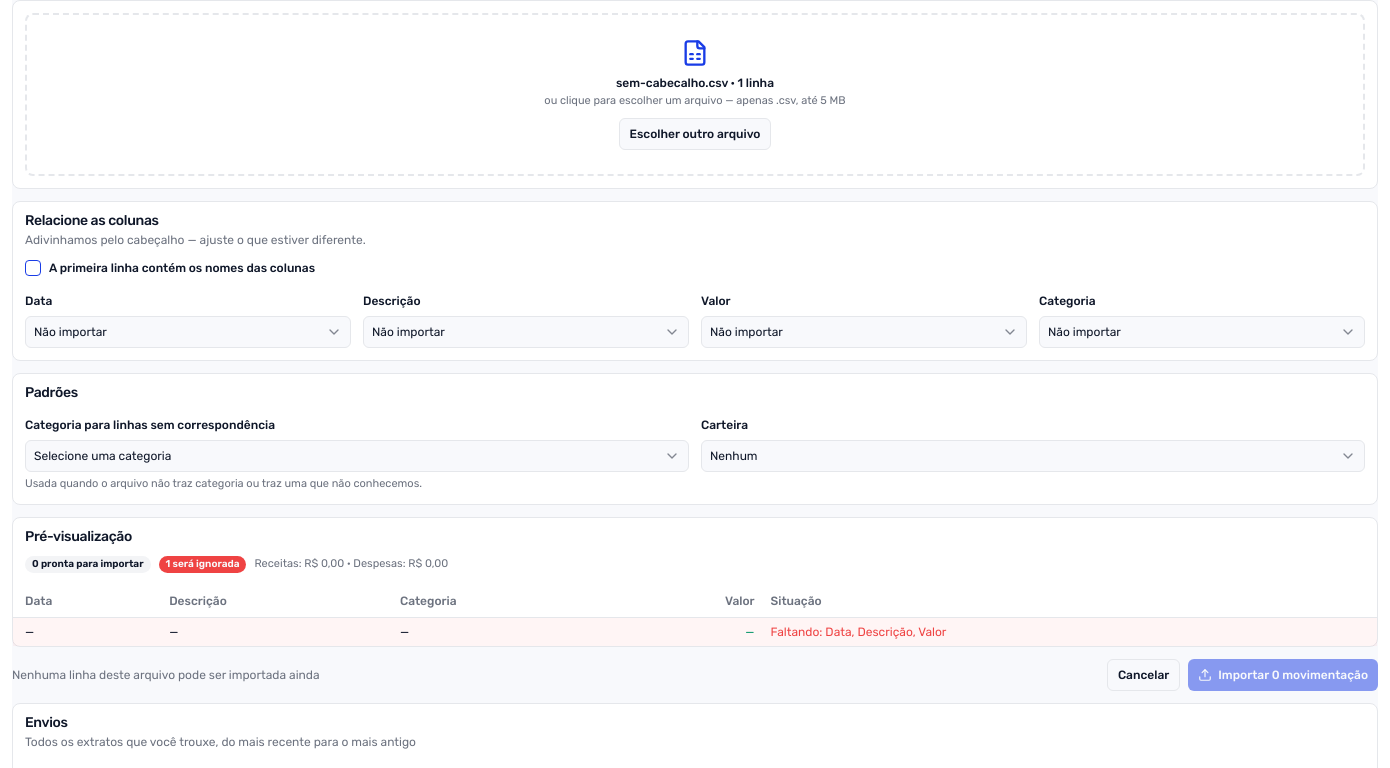
Test case: StatementImportSection › lets the columns be remapped by hand
This screenshot has width=1390, height=768.
Earlier steps of the test are not shown.
Expected: the text "Relacione as colunas" is shown, [25,212,159,228]
Expected: the text "0 pronta para importar" is shown, [25,556,150,573]
Click the dropdown named "Data" at (70, 332), box [25,316,351,348]
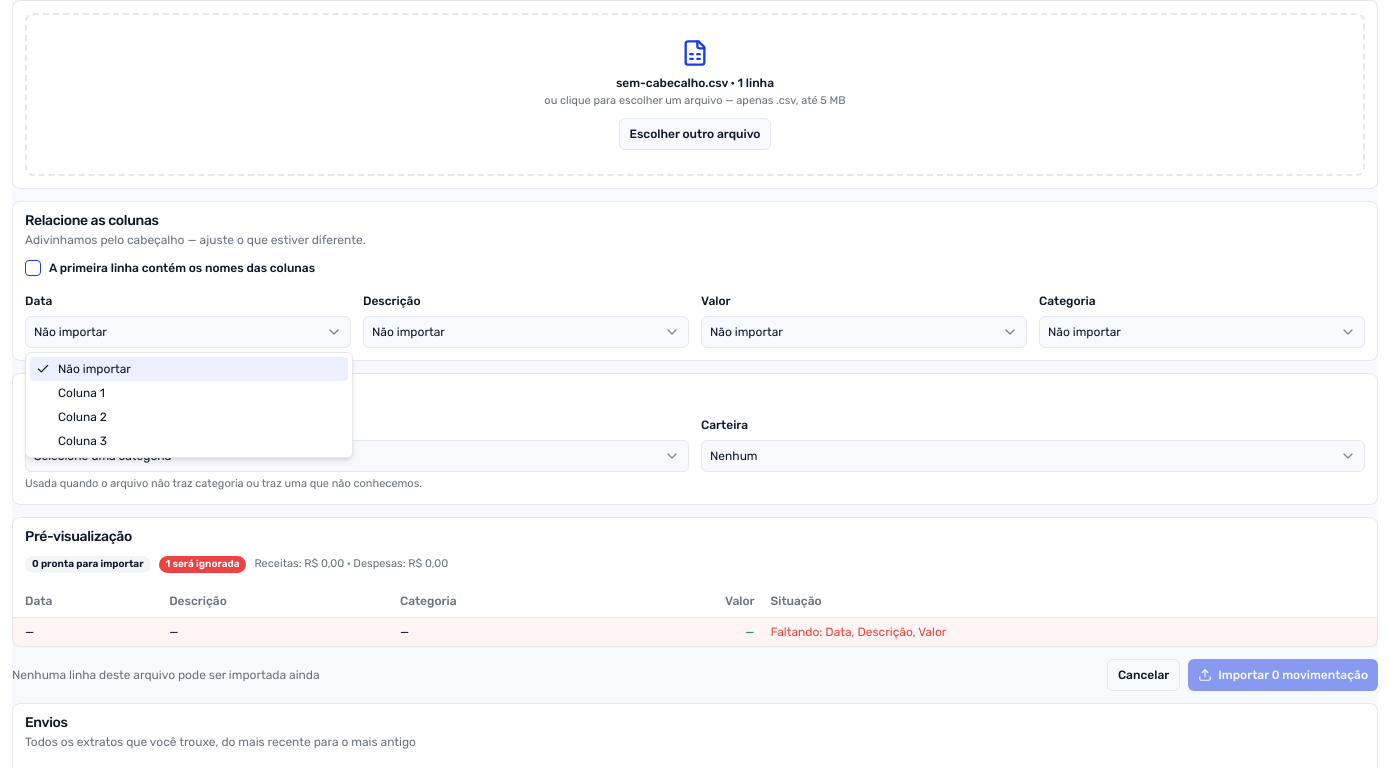
Click the option "Coluna 1" at (82, 393), box [58,386,105,400]
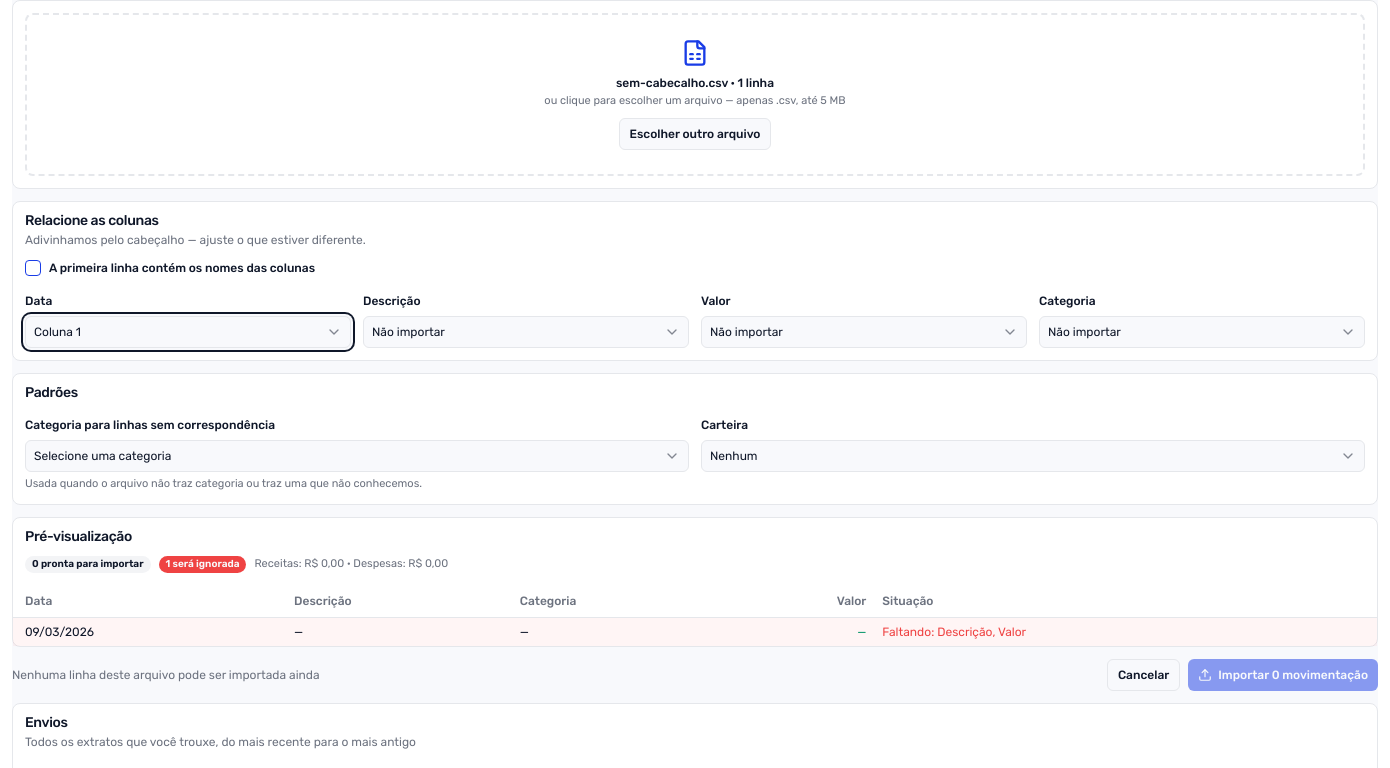
Click the dropdown named "Descrição" at (408, 332), box [363,316,689,348]
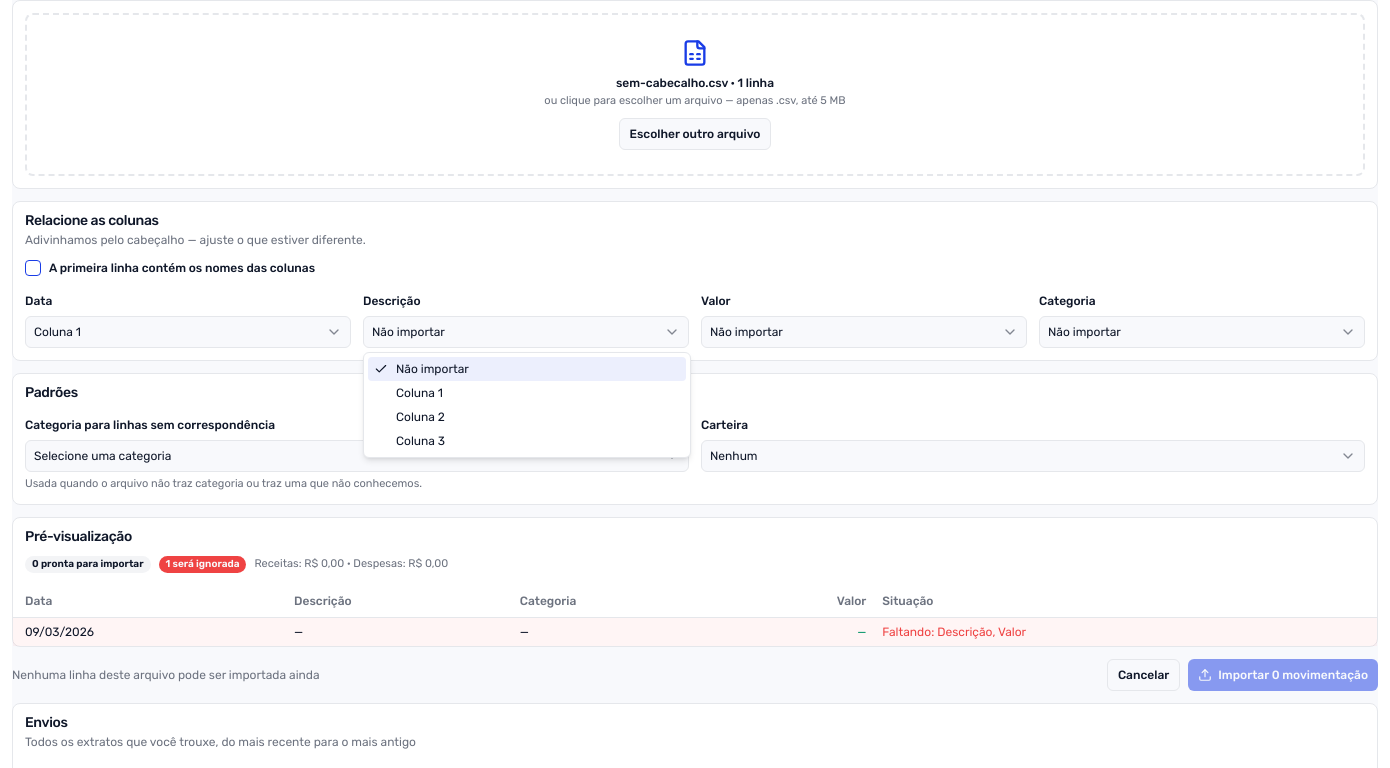
Click the option "Coluna 2" at (420, 417), box [396,410,445,424]
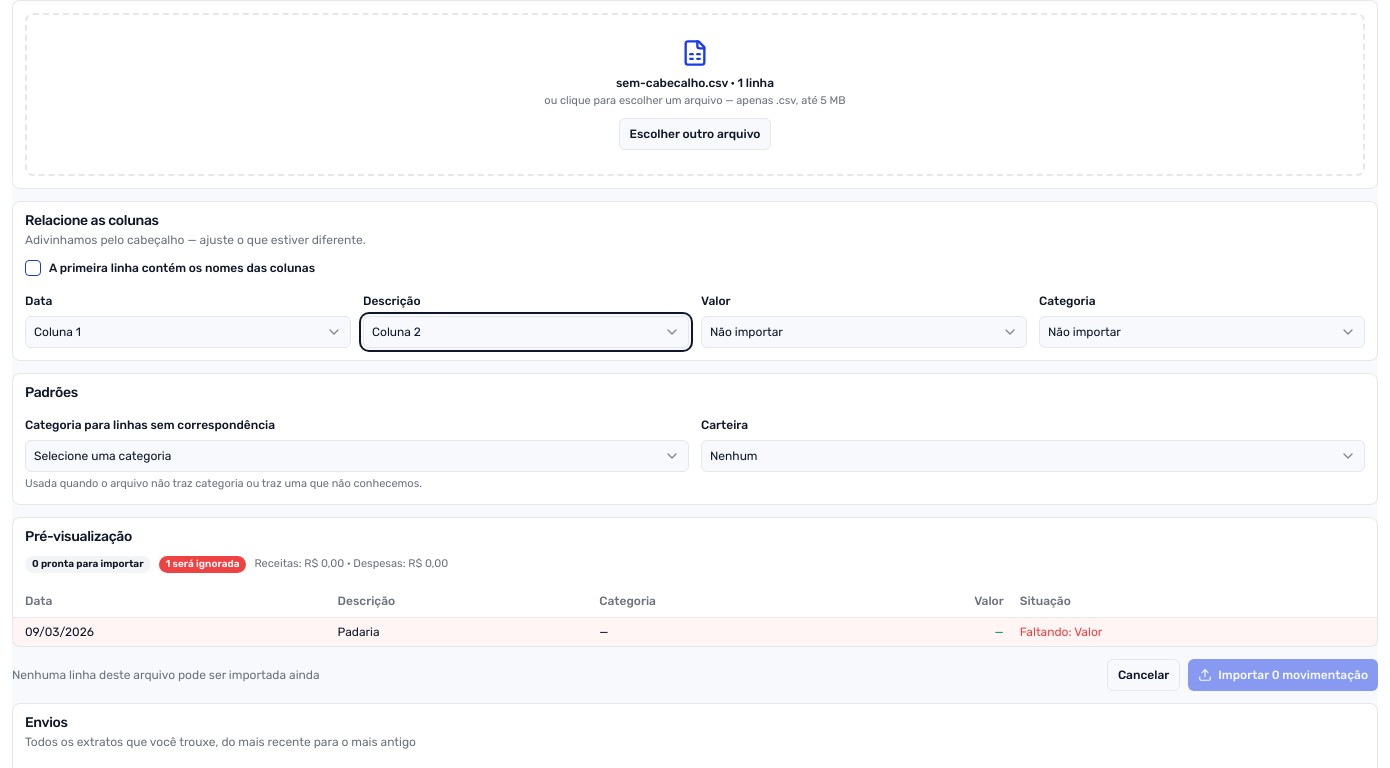
Click the dropdown named "Valor" at (746, 332), box [701,316,1027,348]
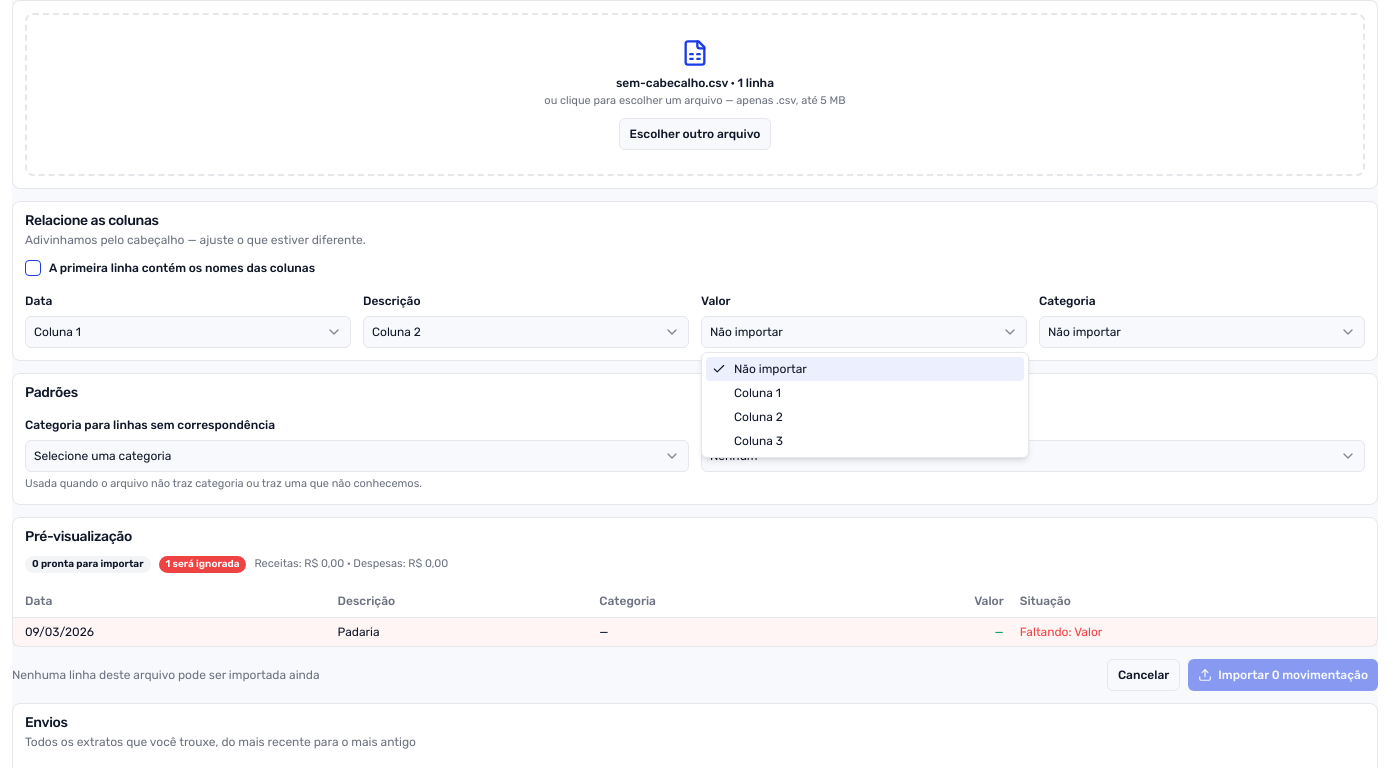
Click the option "Coluna 3" at (759, 441), box [734,434,783,448]
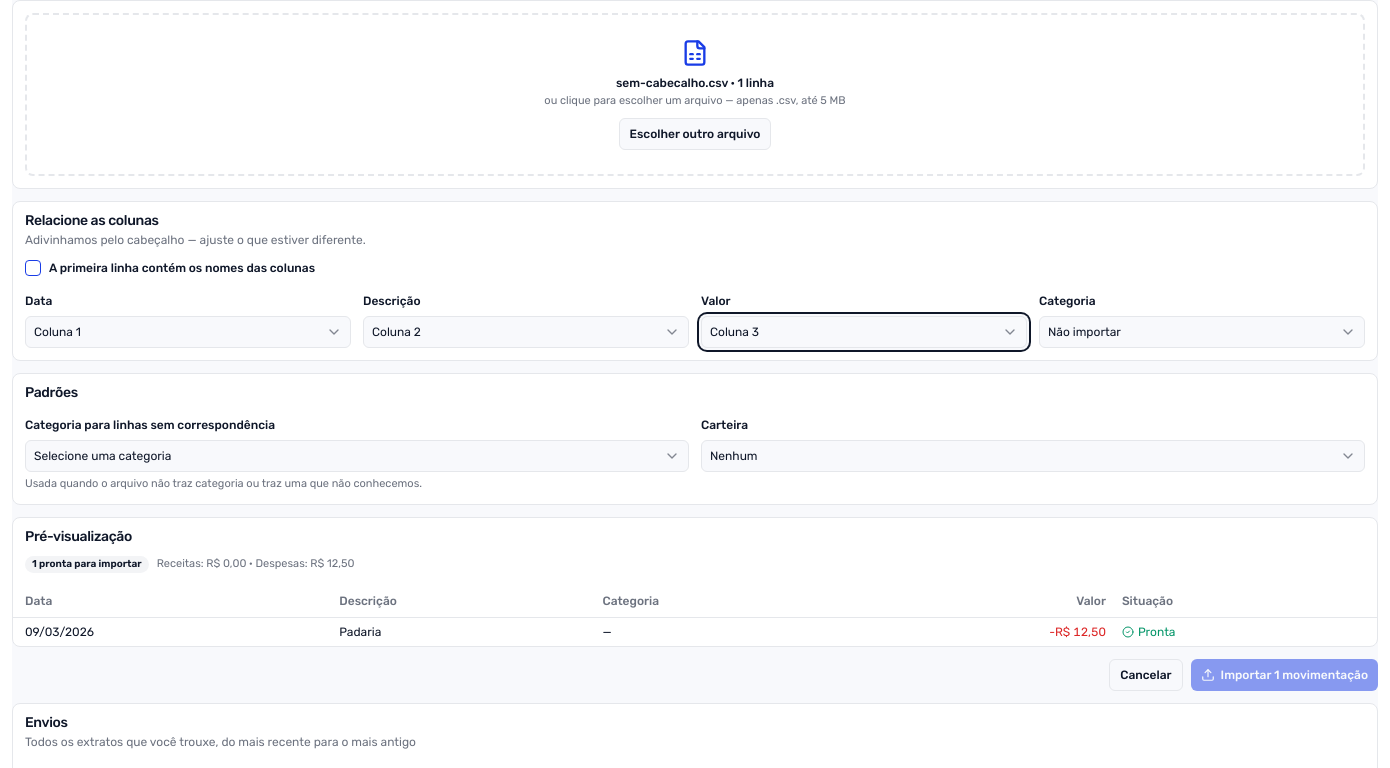
Result: the text "1 pronta para importar" is shown at [25,556,149,573]
